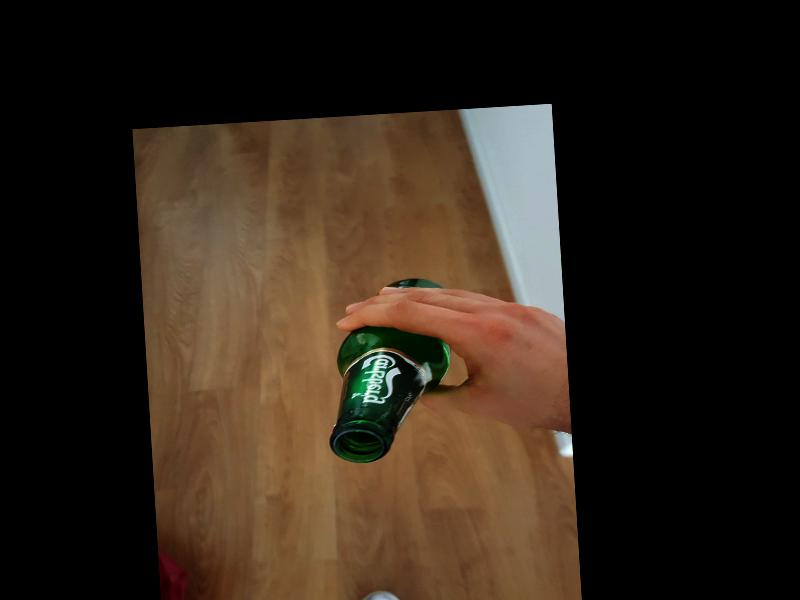Beer: (318, 277, 455, 464)
